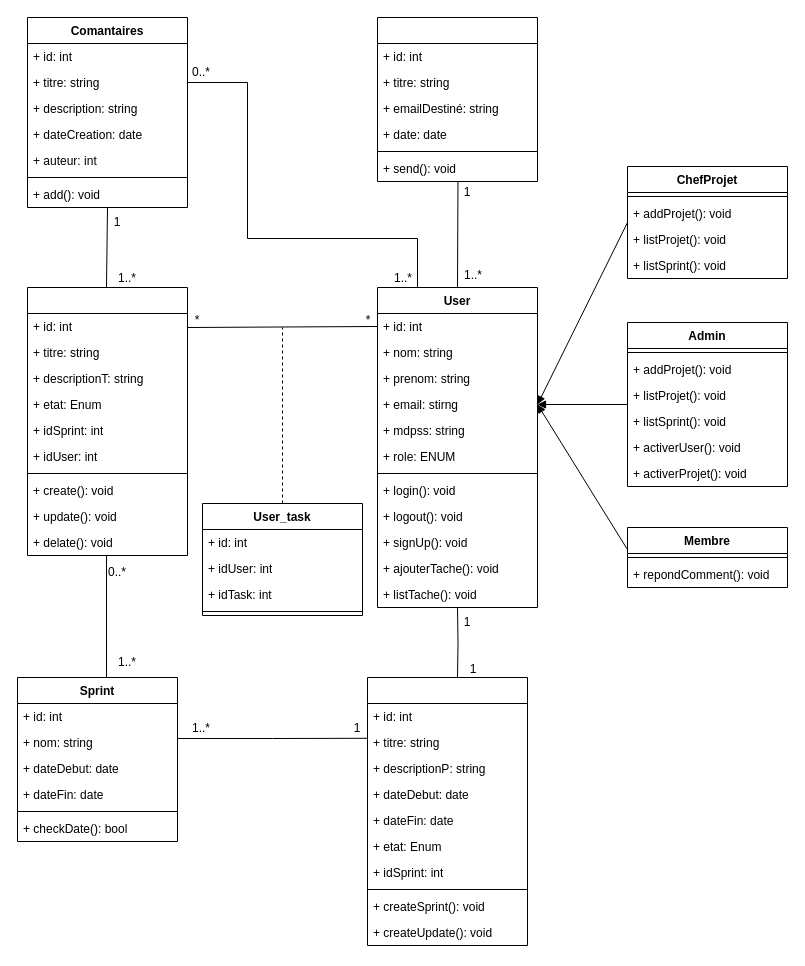
Some shapes in this 805 by 966 pixel diagram are drawn without their labels. The shapes that lost their labels are listed below. From the top down, each one's box as (x1, y1, x2, y2) in pixels, then its label:
(376, 16, 538, 182): Notifications
(26, 286, 188, 556): Tache
(366, 676, 528, 946): Projet
